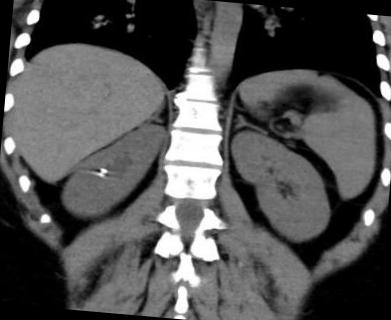Tas_Var: (96, 172, 106, 178), (98, 168, 107, 174)
